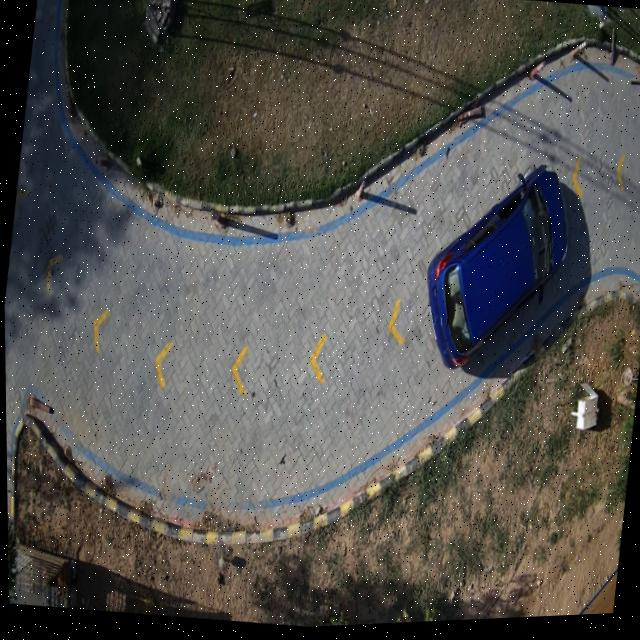car: (425, 167, 567, 376)
